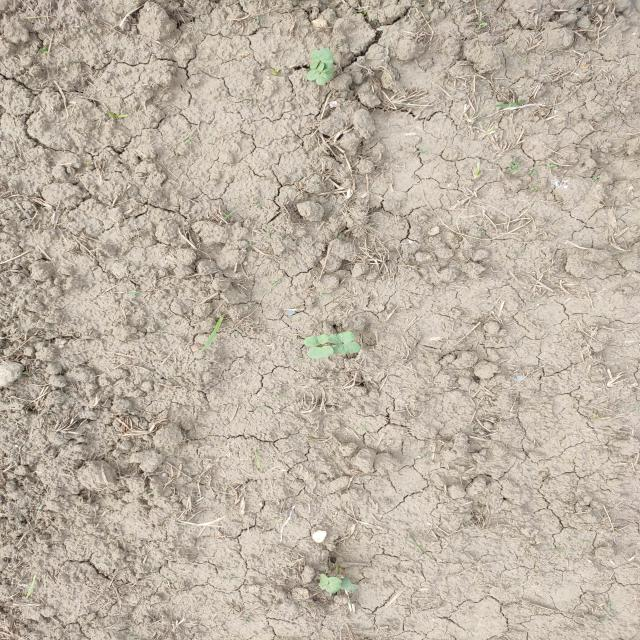seedling_s2: (328, 331, 355, 344), (332, 342, 361, 354), (306, 63, 325, 81), (318, 49, 333, 70), (308, 346, 334, 358), (316, 68, 333, 86), (304, 334, 329, 346), (325, 577, 342, 593), (340, 577, 358, 591), (310, 49, 320, 69), (318, 574, 329, 590)
